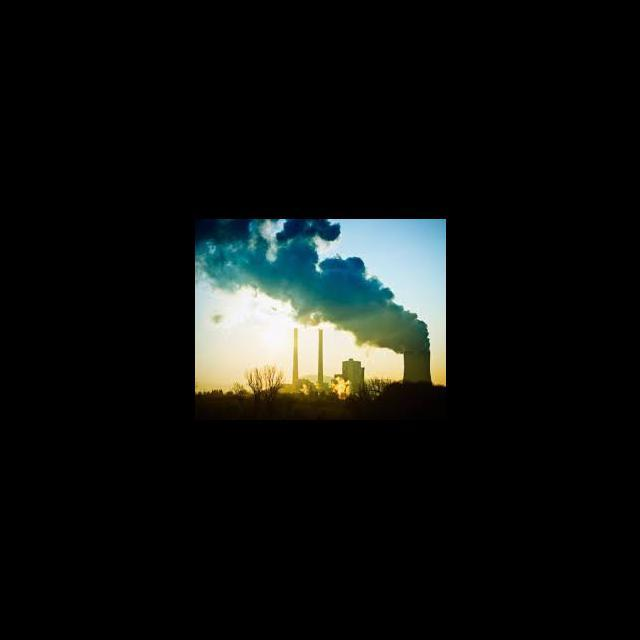Smoke: (195, 220, 336, 300), (326, 266, 430, 344)
